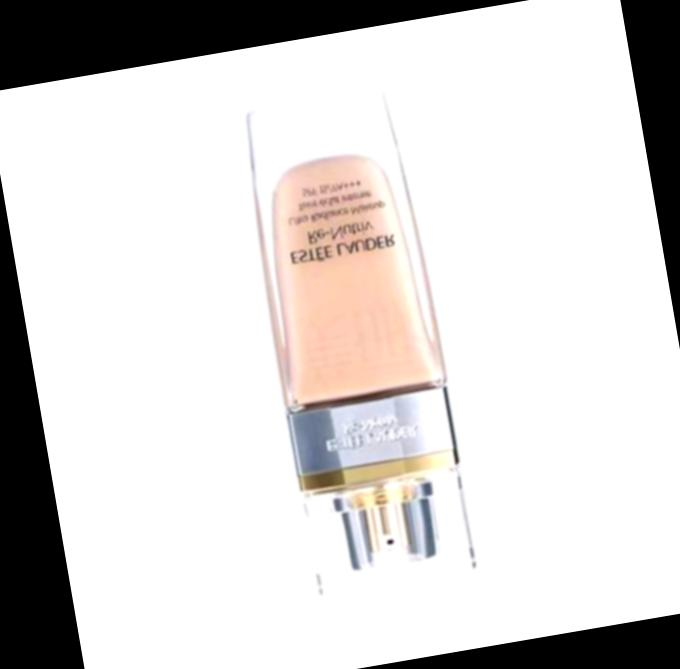cosmetic: (236, 84, 474, 595)
